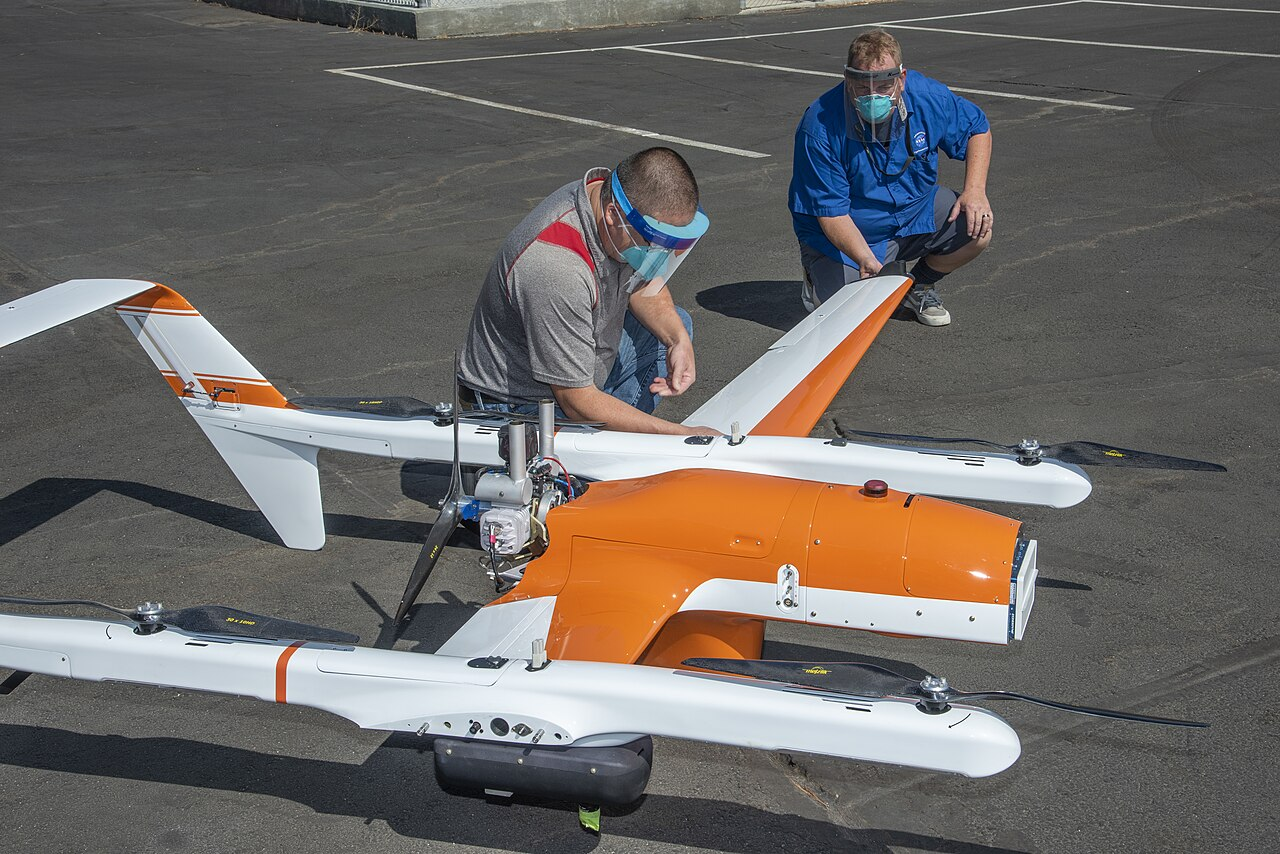drone: (0, 266, 1248, 831)
